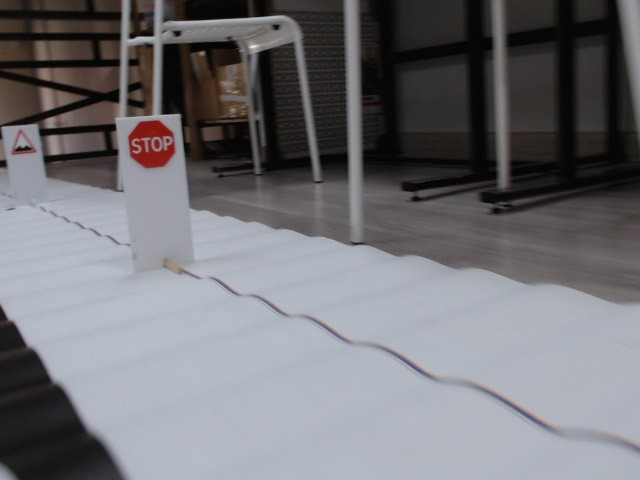Stop: (129, 120, 176, 165)
